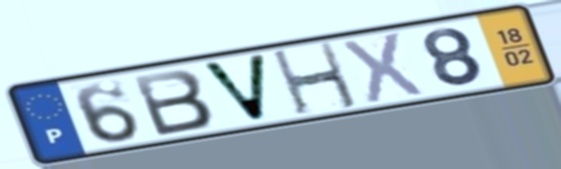6: (71, 79, 143, 145)
8: (420, 27, 486, 88)
B: (129, 66, 217, 138)
H: (268, 40, 362, 118)
V: (196, 52, 270, 125)
X: (338, 29, 428, 106)
